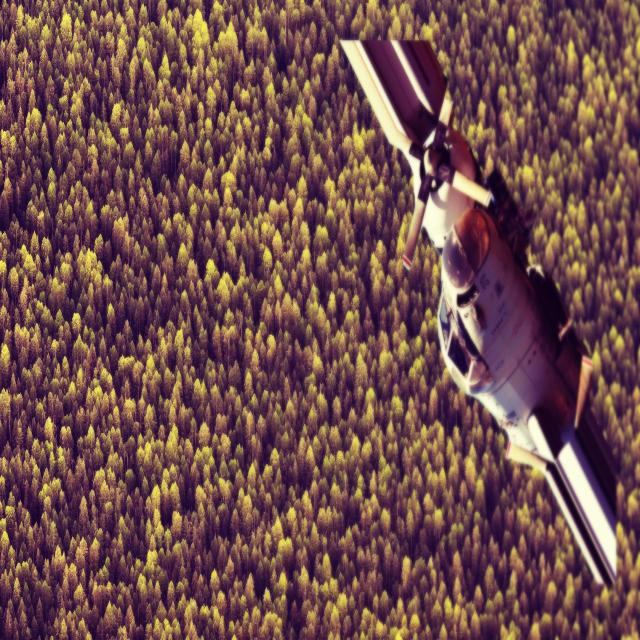airplane: (338, 36, 619, 589)
